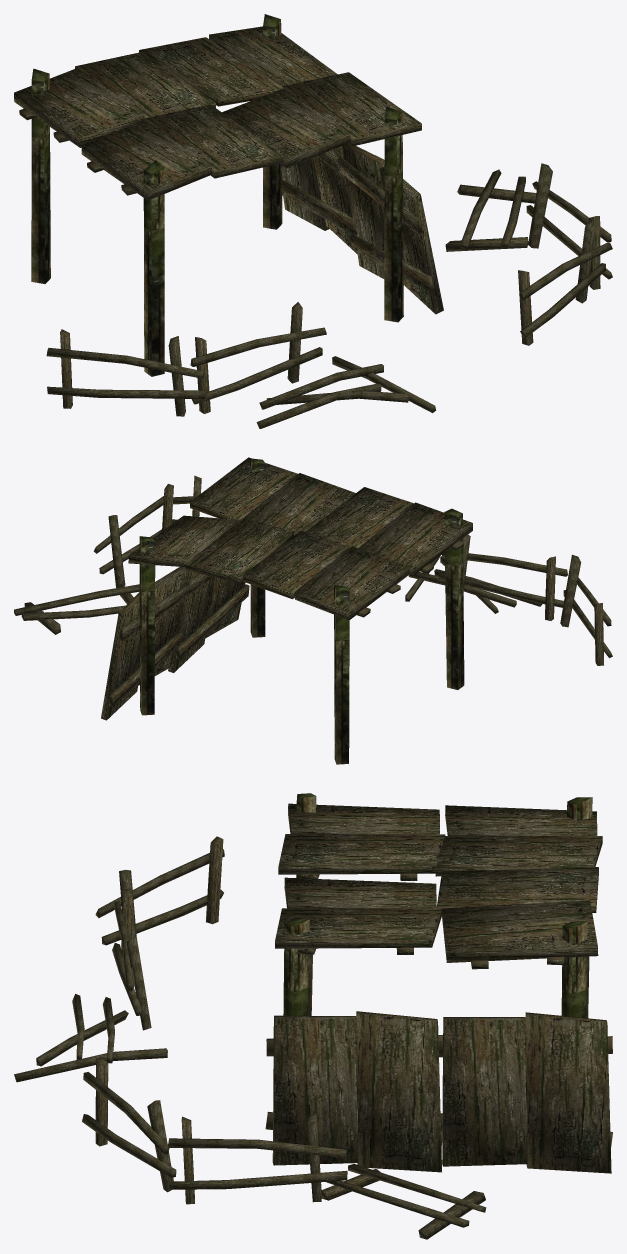
The model's file is OW_PLANKHUTII.glb.
The picture shows the model from 3 angles, top to bottom: view 1: azimuth 30°, elevation 25°; view 2: azimuth 150°, elevation 25°; view 3: azimuth 270°, elevation 25°; orthographic projection. The views are drawn at different scales.
Visible parts, largest first — view 1: Mesh; view 2: Mesh; view 3: Mesh.
Part boxes in pixels (x1,y1,x2,y2): Mesh: (14,14,612,428); Mesh: (14,457,612,764); Mesh: (14,793,612,1239).
Size of the model in its own units: 17.47 by 5.92 by 13.76.
2 materials, 2 textured.
